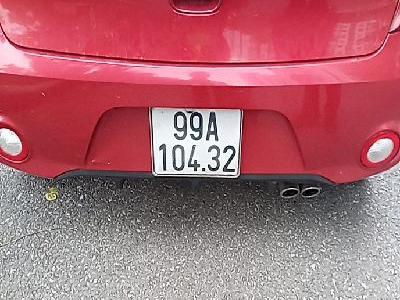car: (148, 107, 241, 180)
